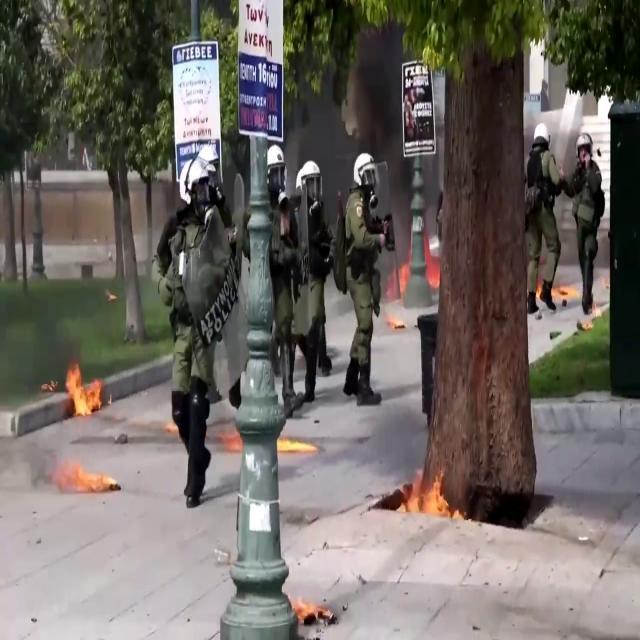Fire: (398, 464, 452, 520), (64, 360, 100, 420)
